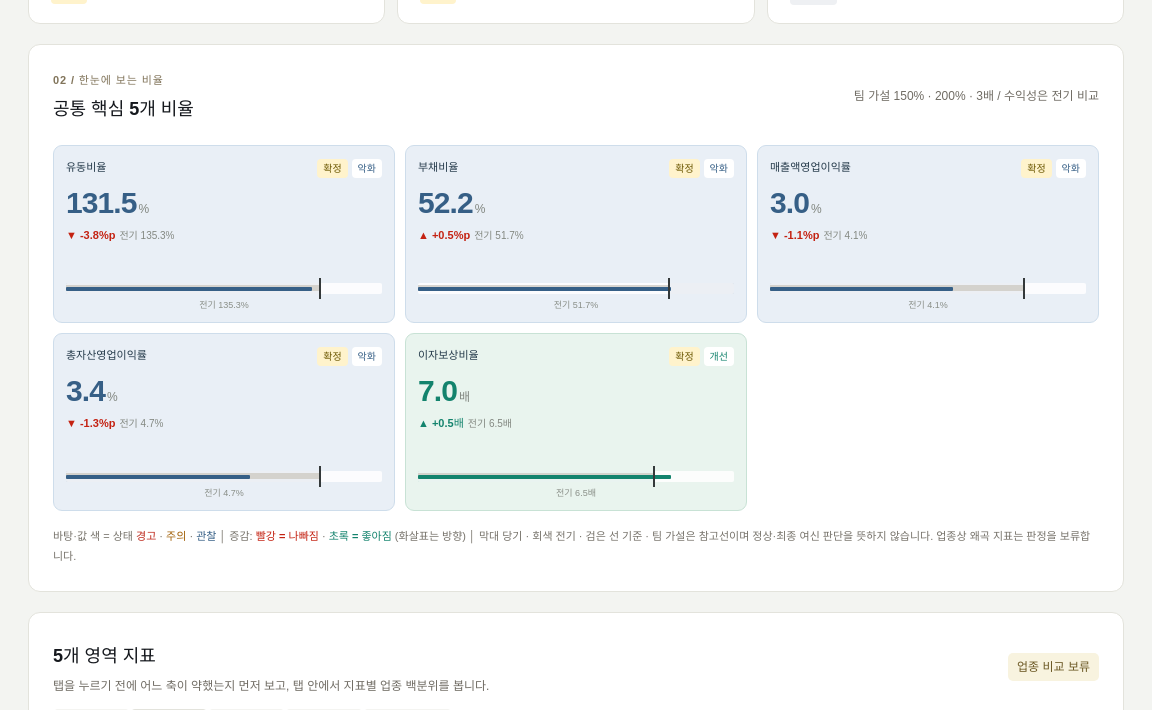
renders official filing values, policy holds and exact note provenance in the formula dialog
(page scrolled)
Expected: the element "총자산영업이익률" shows "확정", [323,351,342,362]
Expected: the element "총자산영업이익률" does not show "기말/평균잔액 기준 미정", [53,333,395,511]
Click the button "이자보상비율" at coordinates (448, 356), box [418,347,479,365]
(page scrolled)
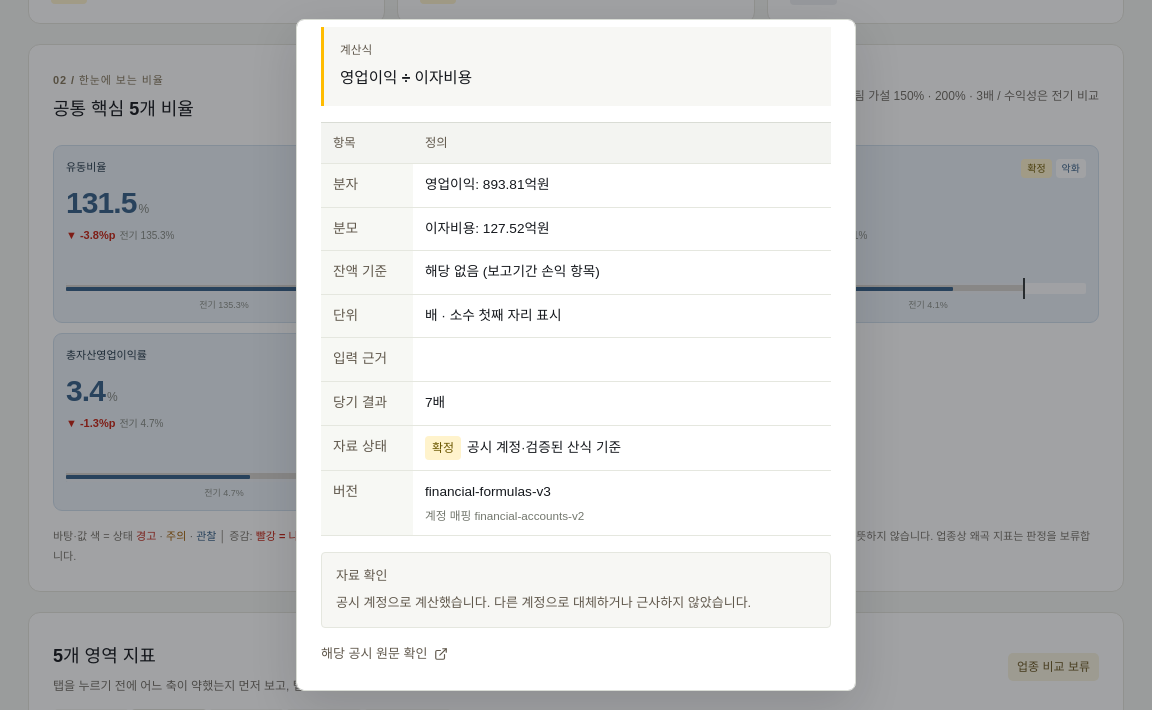
Expected: the text "영업이익 ÷ 이자비용" is shown, [340,70,472,86]
Expected: the text "이자비용: 127.52억원" is shown, [425,221,550,236]
